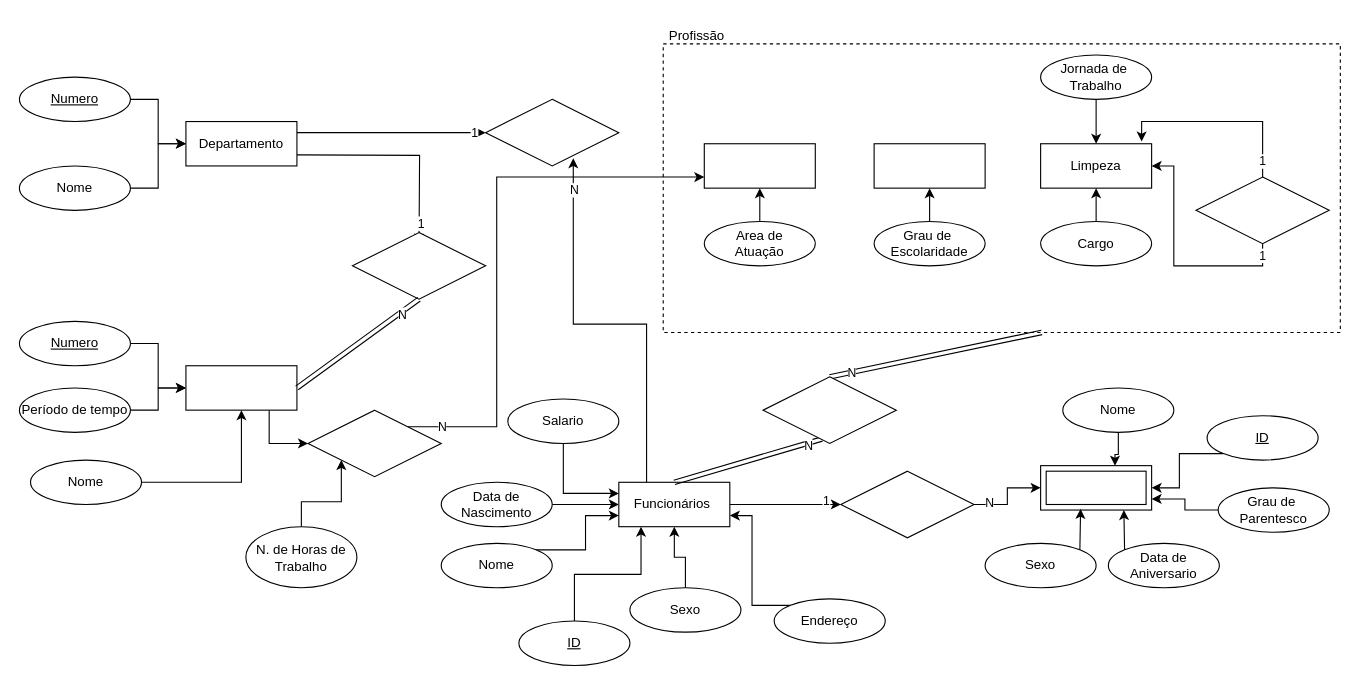
Image size: 1360x685. Some labels were removed from this diagram. Here are the shapes that lost their labels. From the top down, the box of each, then its label:
(485, 98, 619, 166): Trabalha
(703, 143, 815, 188): Pesquisador
(873, 143, 985, 188): Secretario
(1195, 176, 1329, 244): Gerencia
(351, 231, 486, 299): Controlado
(185, 365, 297, 410): Projeto
(762, 376, 896, 443): Especialidade
(307, 409, 441, 477): Trabalha em
(840, 470, 974, 538): Possui
(1040, 465, 1152, 510): Dependentes
